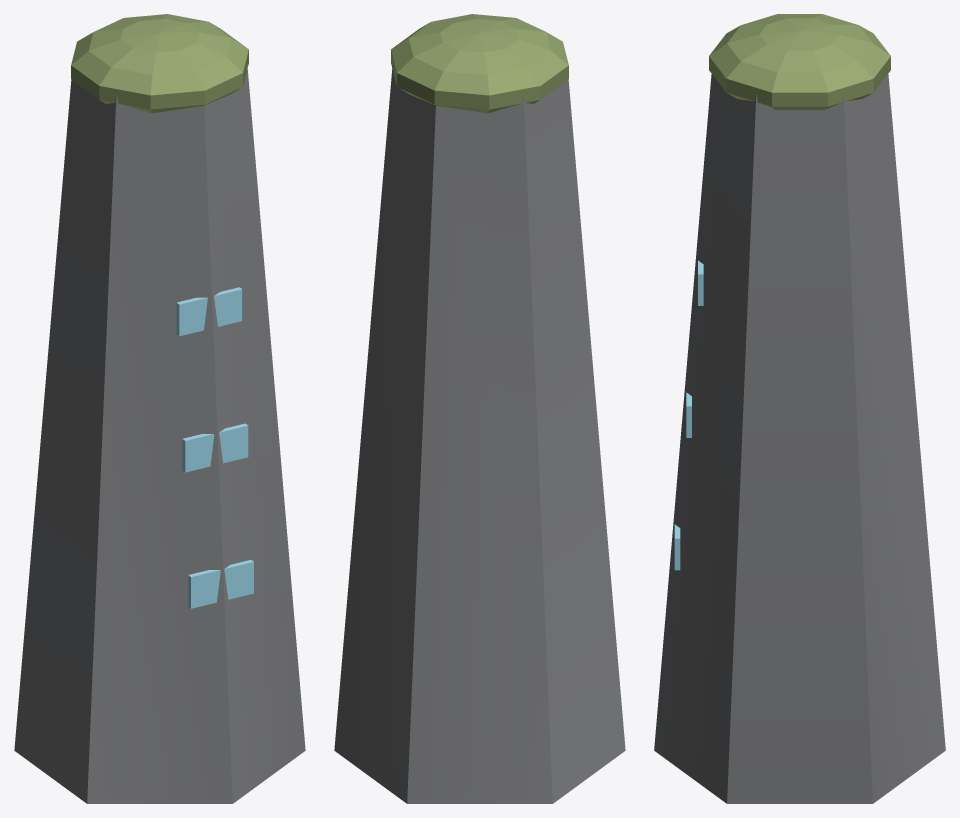
File: Rock_RuneStone.fbx
The picture shows the model from 3 angles, left to right: view 1: azimuth 30°, elevation 25°; view 2: azimuth 150°, elevation 25°; view 3: azimuth 270°, elevation 25°; orthographic projection.
Visible parts, largest first — view 1: Res_Rock_RuneStone; view 2: Res_Rock_RuneStone; view 3: Res_Rock_RuneStone.
Part boxes in pixels (left/top/right/bottom): Res_Rock_RuneStone: left=14, top=14, right=305, bottom=803; Res_Rock_RuneStone: left=334, top=14, right=625, bottom=803; Res_Rock_RuneStone: left=654, top=14, right=945, bottom=803.
Bounding box in the file's own units: 0.866 × 2.72 × 1.
